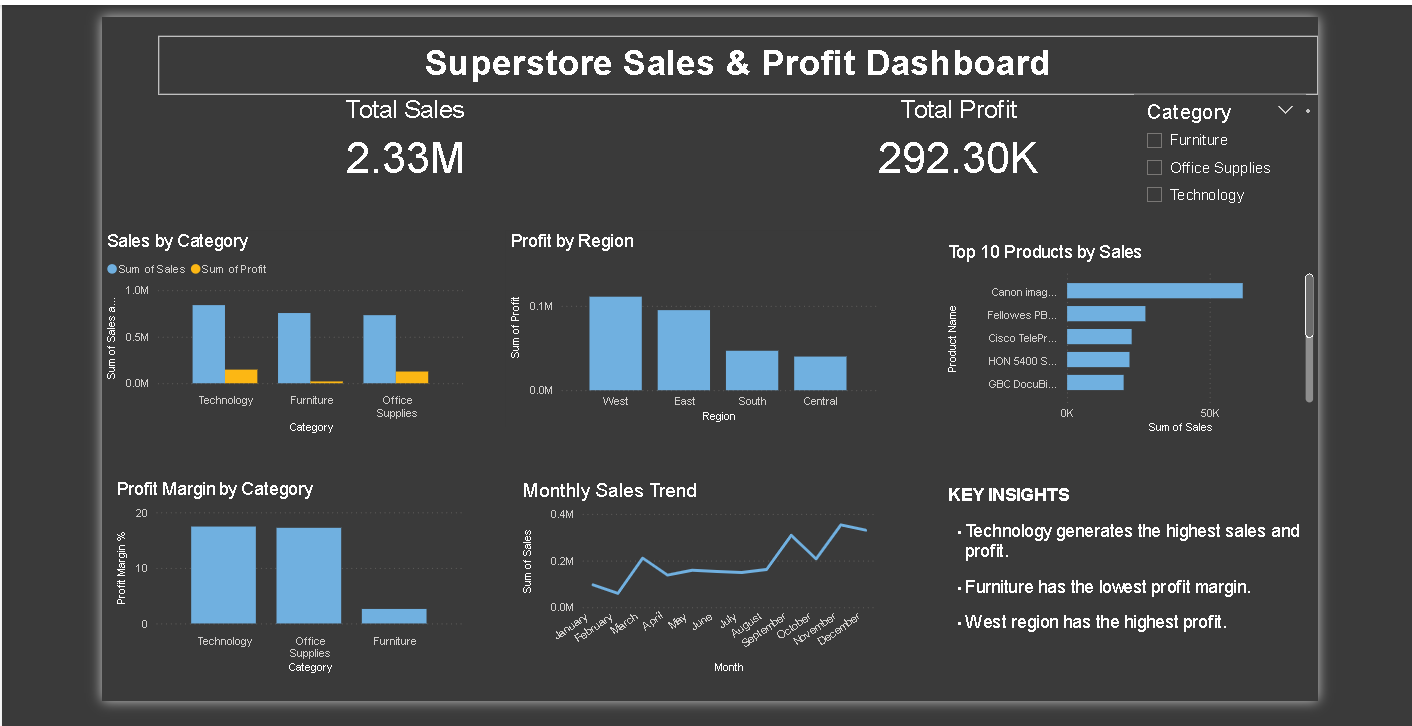

The dashboard page shown, as its layout file describes it:
{"tool":"powerbi","page":{"name":"Page 1","canvas":[1280,720],"ordinal":0},"visuals":[{"type":"card","title":"Total Sales","fields":{"Values":["Sum(Sample Superstore.Sales)"]},"box":[160,81.3,317.3,97.3],"z":0},{"type":"card","title":"Total Profit","fields":{"Values":["Sum(Sample Superstore.Profit)"]},"box":[742.7,81.3,320,97.3],"z":1000},{"type":"clusteredColumnChart","title":"Sales by Category","fields":{"Category":["Sample Superstore.Category"],"Y":["Sum(Sample Superstore.Sales)","Sum(Sample Superstore.Profit)"]},"box":[0,225,388.3,218.3],"z":2000},{"type":"lineChart","title":"Monthly Sales Trend","fields":{"Category":["Sample Superstore.Order Date.Variation.Date Hierarchy.Month"],"Y":["Sum(Sample Superstore.Sales)"]},"box":[438.7,486.7,381.3,209.3],"z":3000},{"type":"clusteredColumnChart","title":"Profit by Region","fields":{"Y":["Sum(Sample Superstore.Profit)"],"Category":["Sample Superstore.Region"]},"box":[425,225,395,206.7],"z":4000},{"type":"clusteredColumnChart","title":"Profit Margin by Category","fields":{"Category":["Sample Superstore.Category"],"Y":["Sample Superstore.Profit Margin %"]},"box":[10.7,486.7,376,209.3],"z":5000},{"type":"clusteredBarChart","title":"Top 10 Products by Sales","fields":{"Category":["Sample Superstore.Product Name"],"Y":["Sum(Sample Superstore.Sales)"]},"box":[885.3,237.3,394.7,206.7],"z":6000},{"type":"textbox","box":[58.9,19.6,1220.9,61.4],"z":7000},{"type":"slicer","fields":{"Values":["Sample Superstore.Category"]},"box":[1086.7,81.3,180,125.3],"z":8000},{"type":"textbox","box":[885.3,486.7,381.3,209.3],"z":9000}]}

Visuals, with their boxes on the page's 1280x720 design canvas (x1, y1, x2, y2). These are canvas units, not pixel positions in the 1412x726 screenshot, which may show the page scaled, cropped or inside an application window:
"Total Sales" card: 160 81 477 179
"Total Profit" card: 743 81 1063 179
"Sales by Category" clusteredColumnChart: 0 225 388 443
"Monthly Sales Trend" lineChart: 439 487 820 696
"Profit by Region" clusteredColumnChart: 425 225 820 432
"Profit Margin by Category" clusteredColumnChart: 11 487 387 696
"Top 10 Products by Sales" clusteredBarChart: 885 237 1280 444
textbox: 59 20 1280 81
slicer - Sample Superstore.Category: 1087 81 1267 207
textbox: 885 487 1267 696
